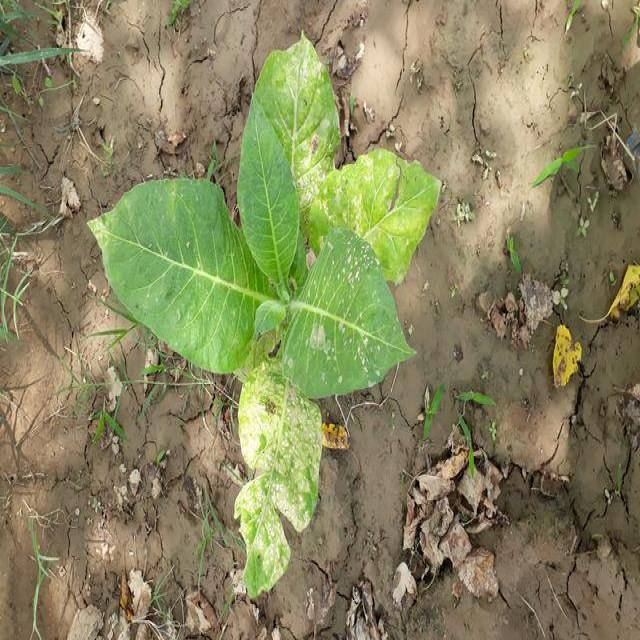crop: (82, 28, 444, 610)
